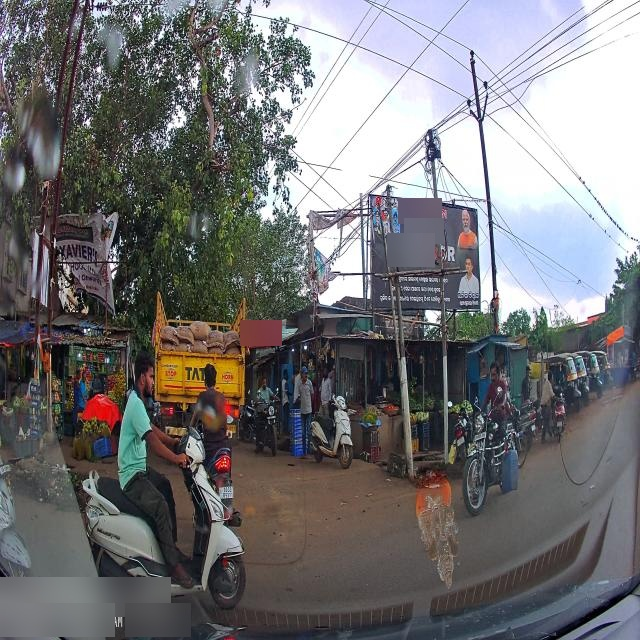pothole: (602, 391, 626, 408)
